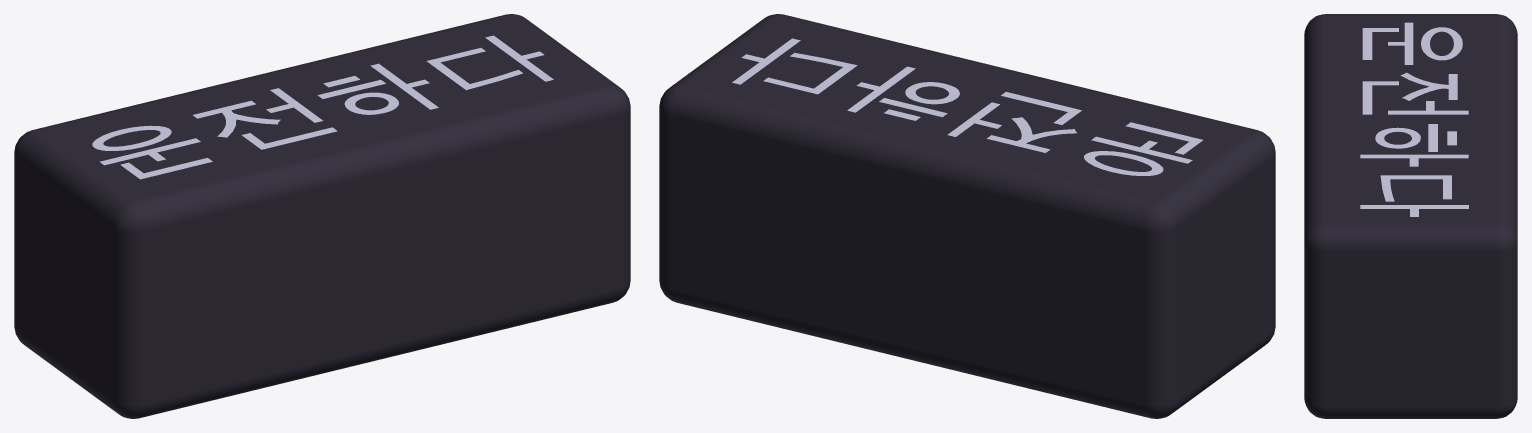
File: drive.glb
3 renders of one model, left to right at view 1: azimuth 30°, elevation 25°; view 2: azimuth 150°, elevation 25°; view 3: azimuth 270°, elevation 25°, orthographic. The views are drawn at different scales.
Visible parts, largest first — view 1: Cut, Extrude; view 2: Cut, Extrude; view 3: Cut, Extrude.
Boxes of the visible parts, bbox=[...] form: Cut: bbox=[14, 14, 630, 418]; Extrude: bbox=[92, 35, 553, 179]; Cut: bbox=[659, 14, 1275, 418]; Extrude: bbox=[732, 38, 1202, 175]; Cut: bbox=[1304, 14, 1517, 418]; Extrude: bbox=[1360, 22, 1468, 216].
Bounding box in the file's own units: 5 × 2 × 2.
